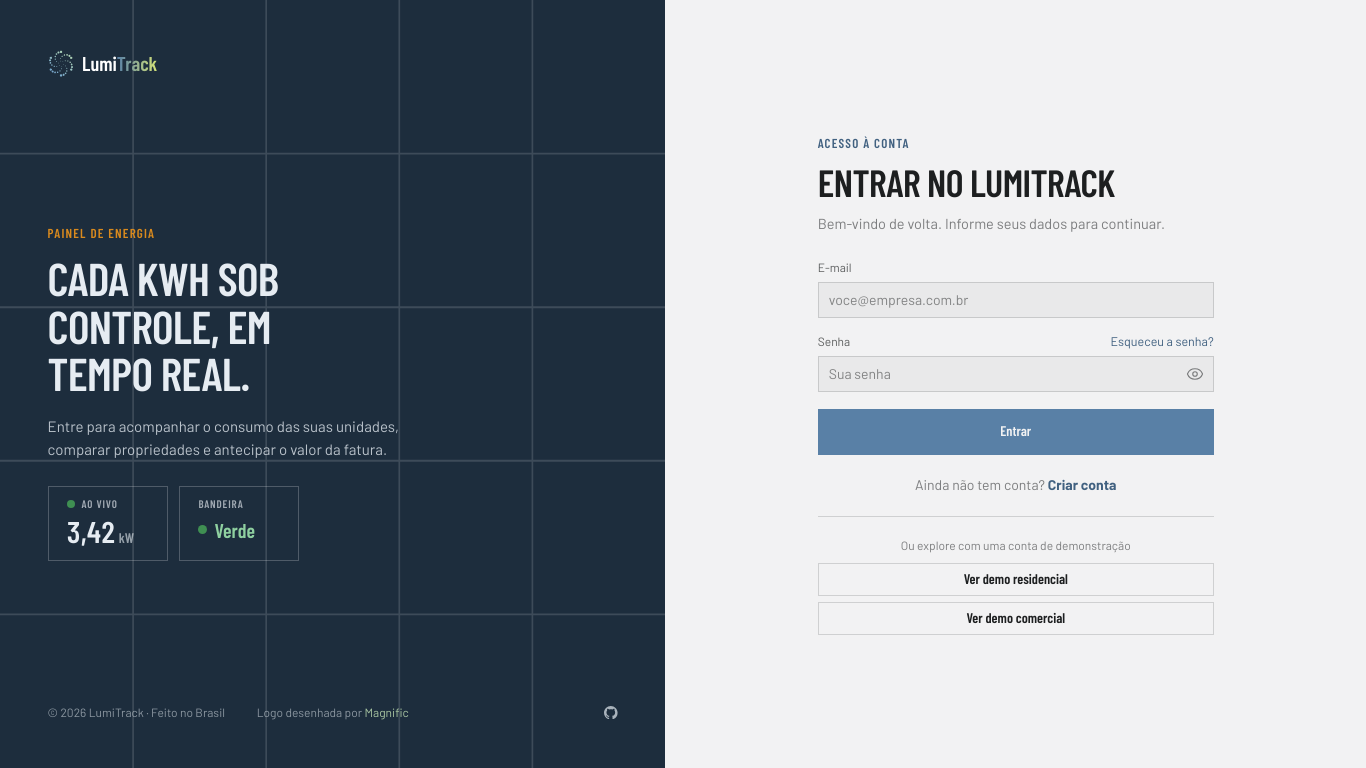
Scenario: LoginPage — login de demonstração (VITE_DEMO_MODE) › exibe a mesma mensagem de erro do login normal quando o demo falha
Click the button "Ver demo comercial" at point(1016, 619), box [818, 602, 1214, 635]
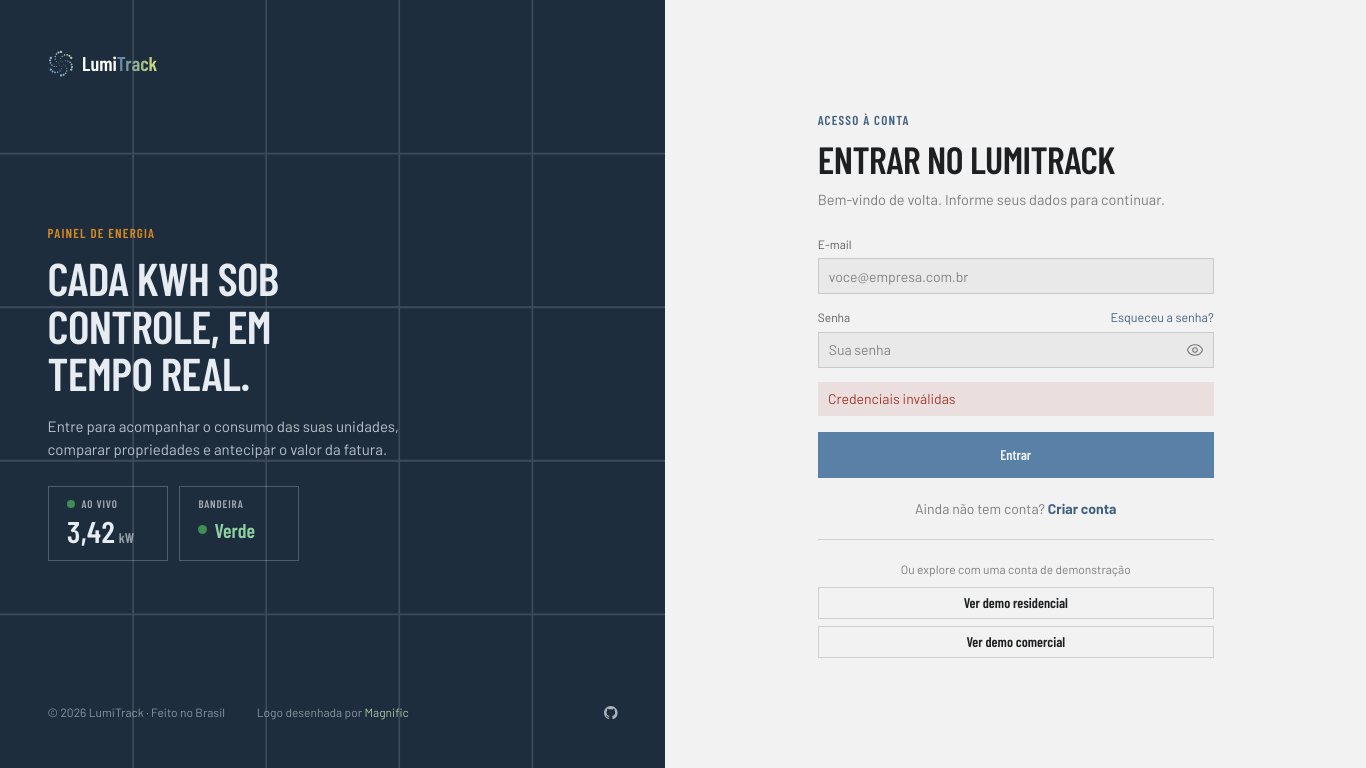
expect the text "Credenciais inválidas" is shown: met, box [818, 382, 1214, 416]
